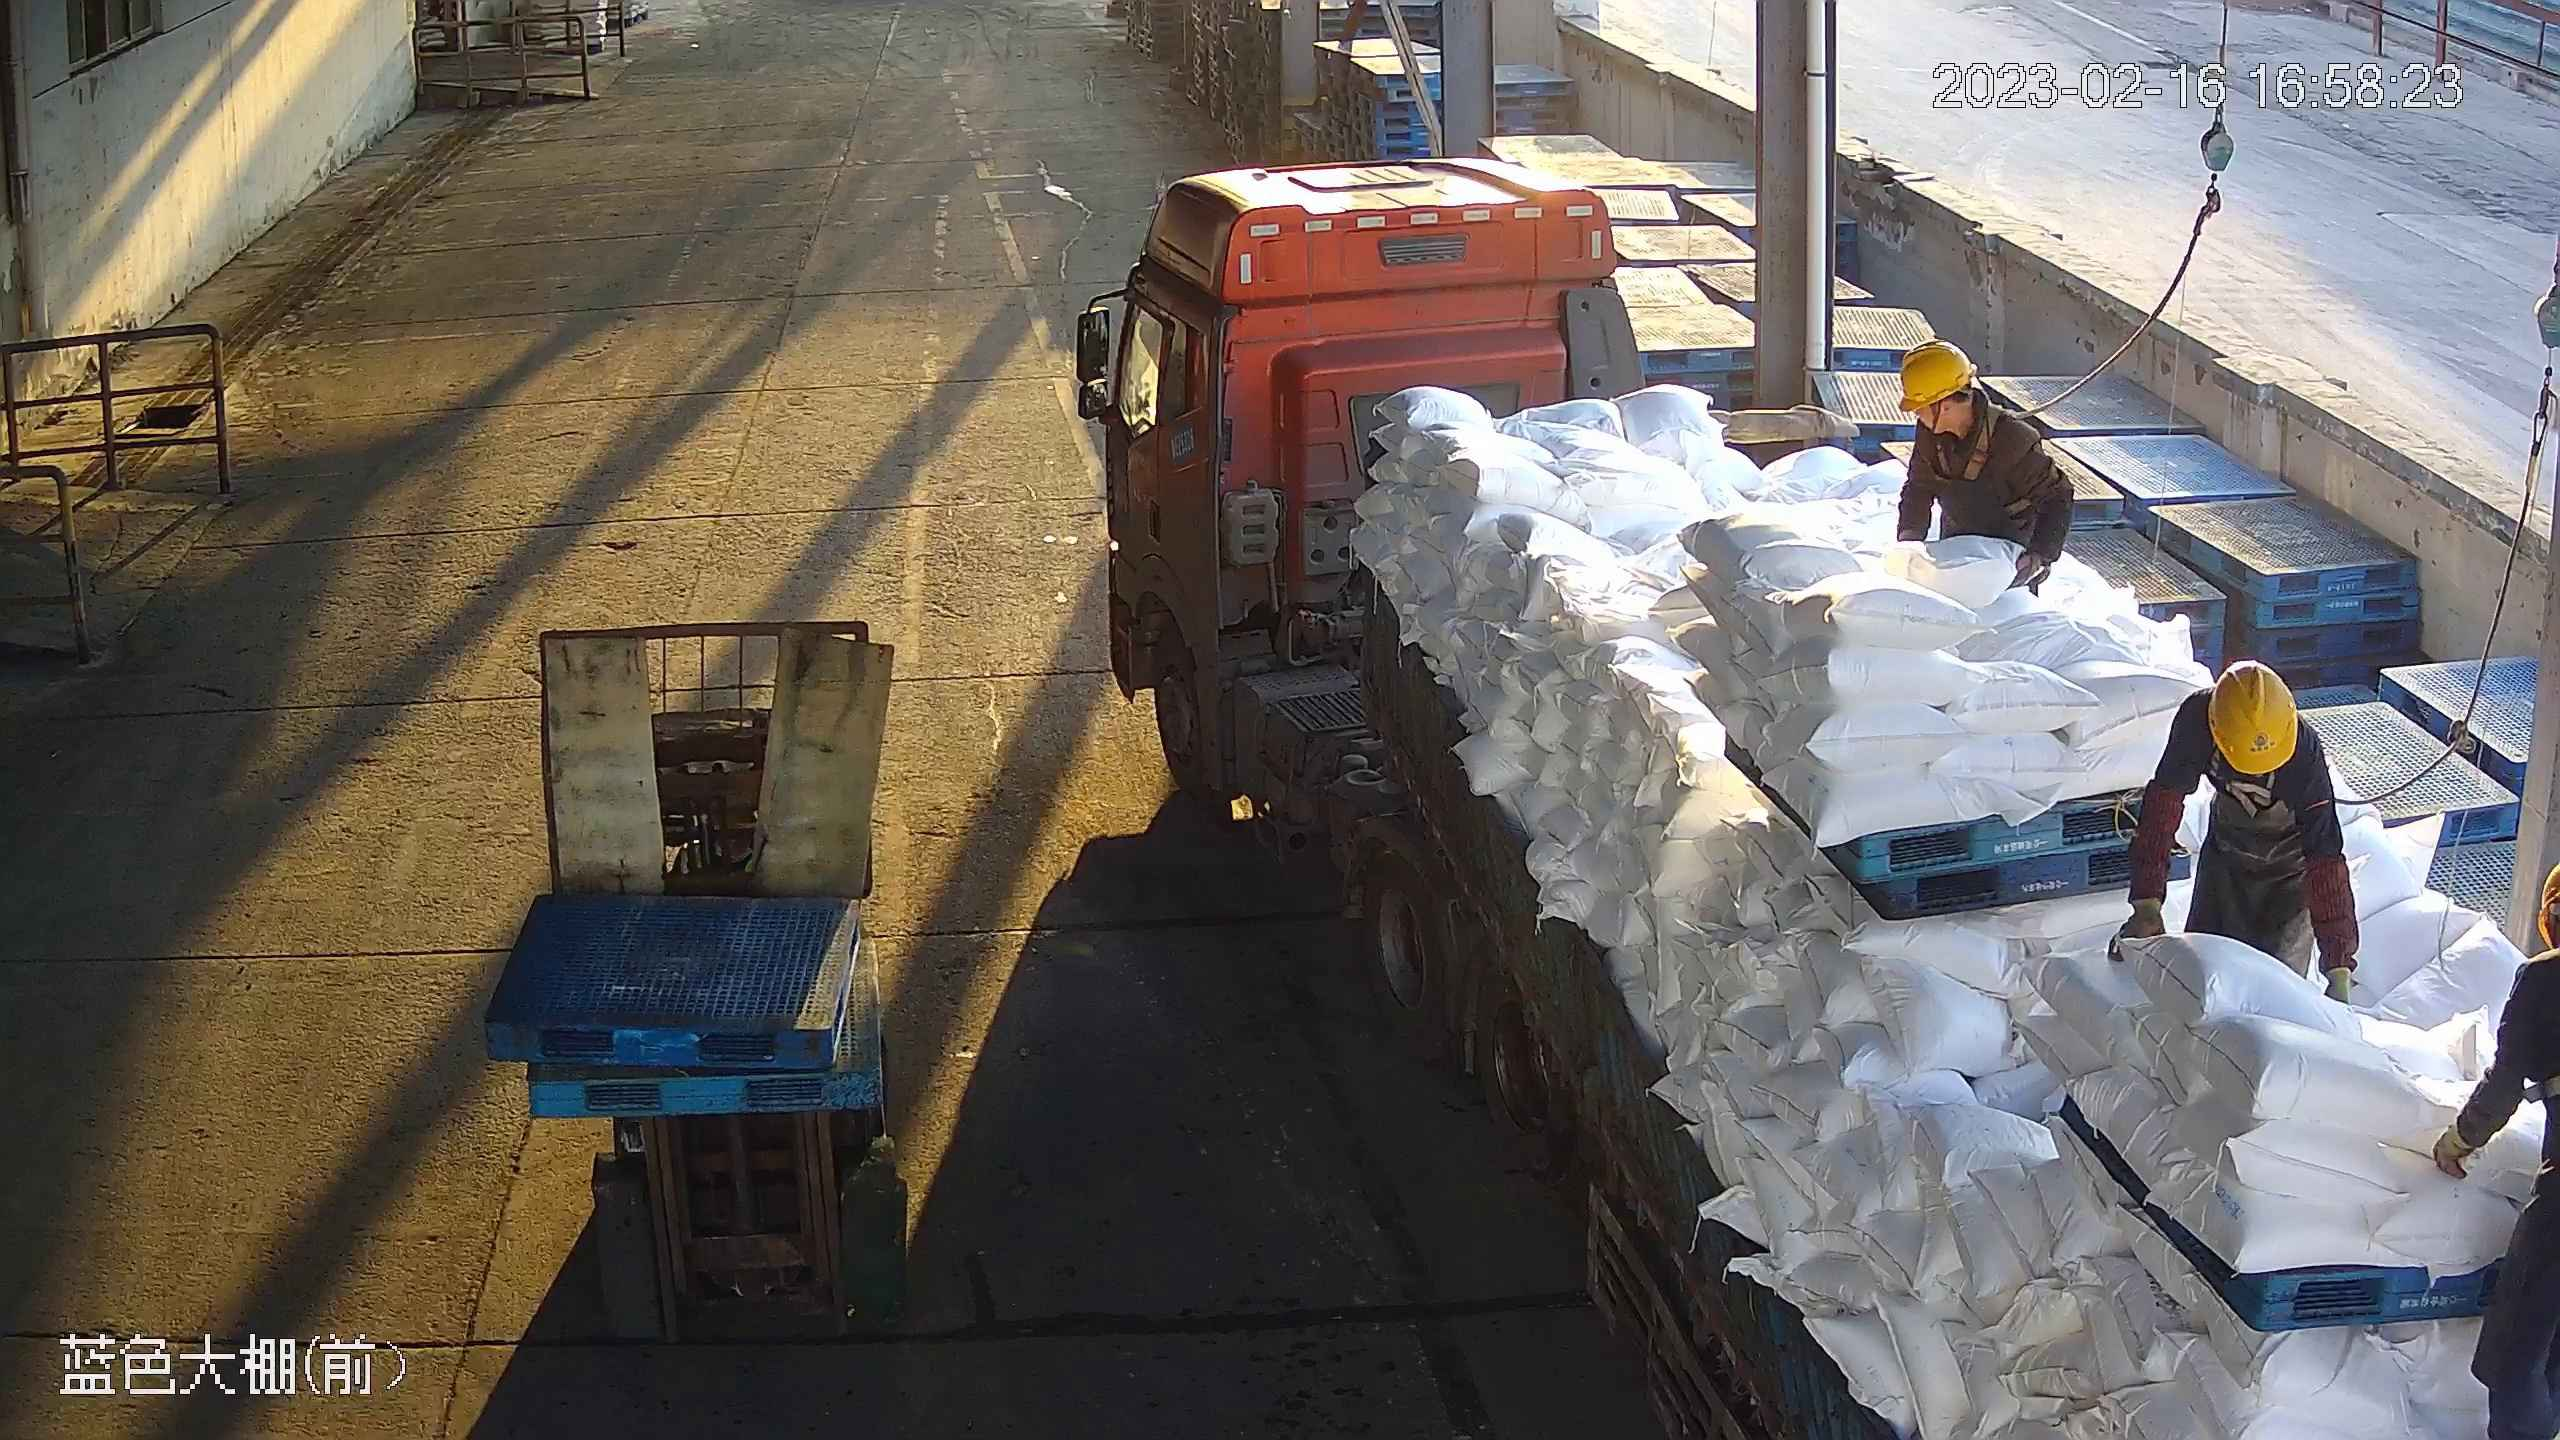belt: (1925, 429, 2002, 490)
head: (2170, 664, 2334, 799), (1888, 341, 2025, 469)
helmet: (2207, 662, 2300, 779), (1886, 339, 1976, 408)
people: (2114, 662, 2362, 1011)
truck: (1058, 148, 2560, 1440)
